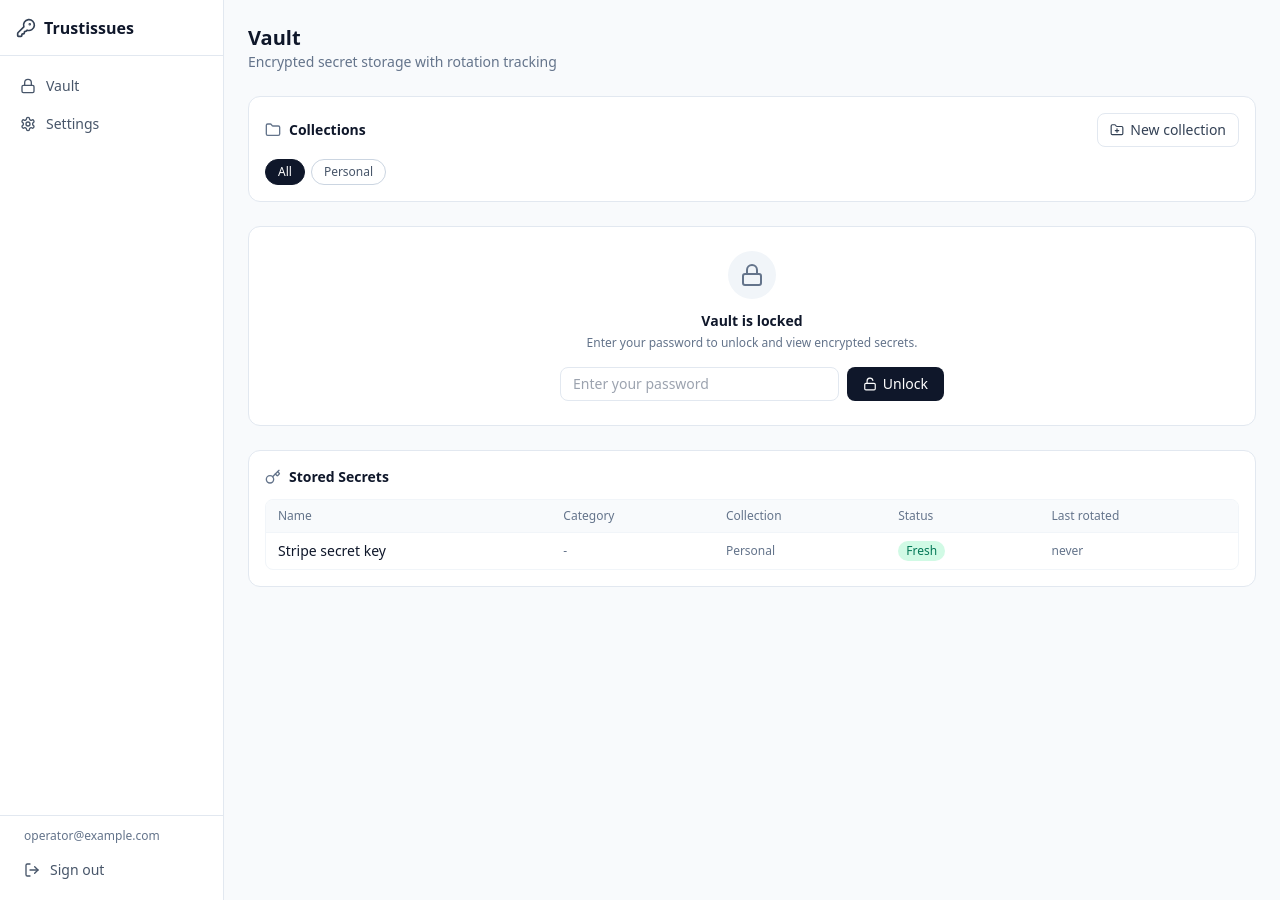
the stranded-key alarm must survive unlocking › positive control: an entry with no pending_revoke shows no chip once unlocked
Check: the text "Stripe secret key" is shown, box [266, 532, 551, 569]
Type "hunter2" into the password field with placeholder "Enter your password" at (699, 384), box [560, 367, 839, 401]
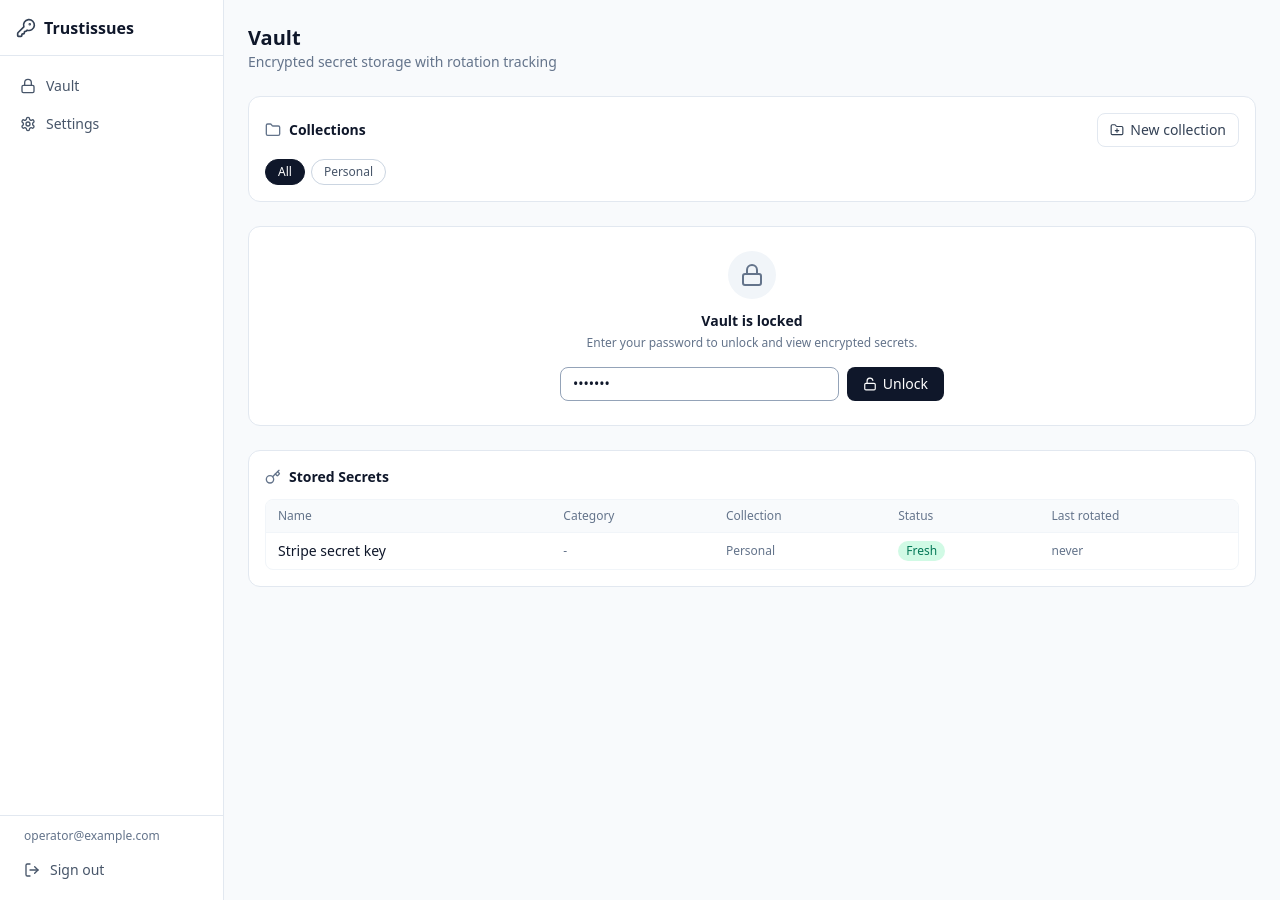
Click the button "Unlock" at (895, 384), box [847, 367, 944, 401]
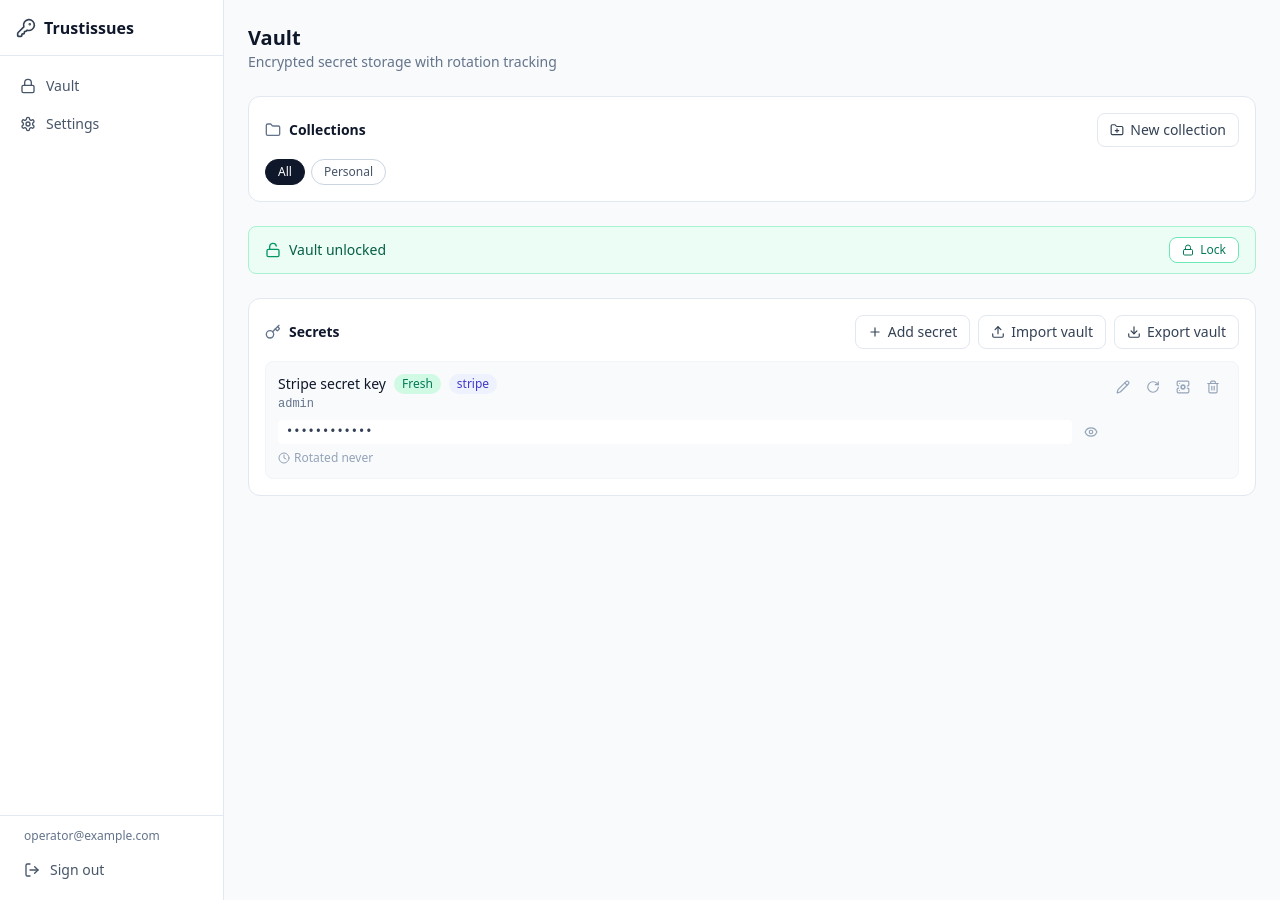
Check: the text "admin" is shown, box [278, 396, 314, 412]
